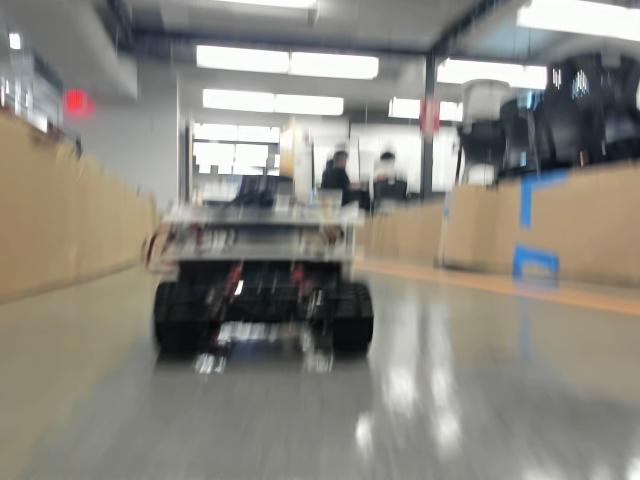Car: (152, 177, 371, 355)
